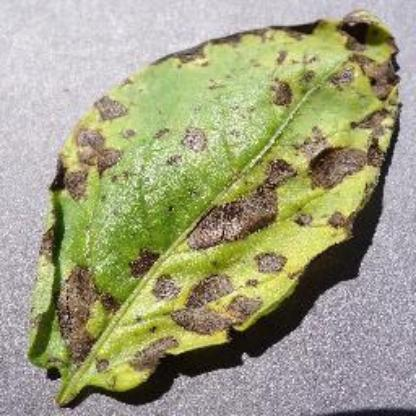Early-Blight: (25, 3, 416, 415)
